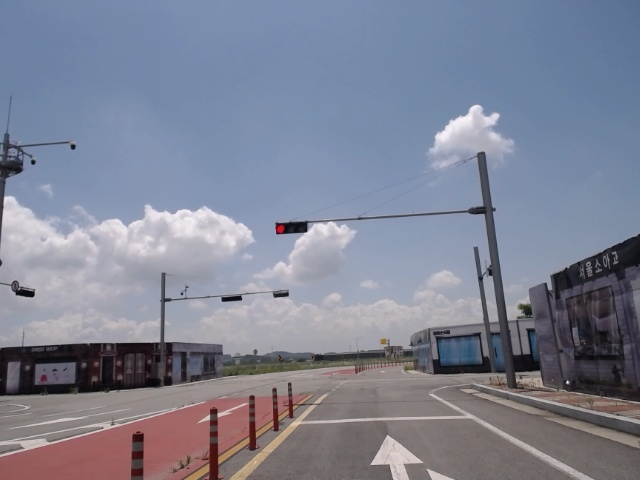red_3: (274, 219, 309, 236)
